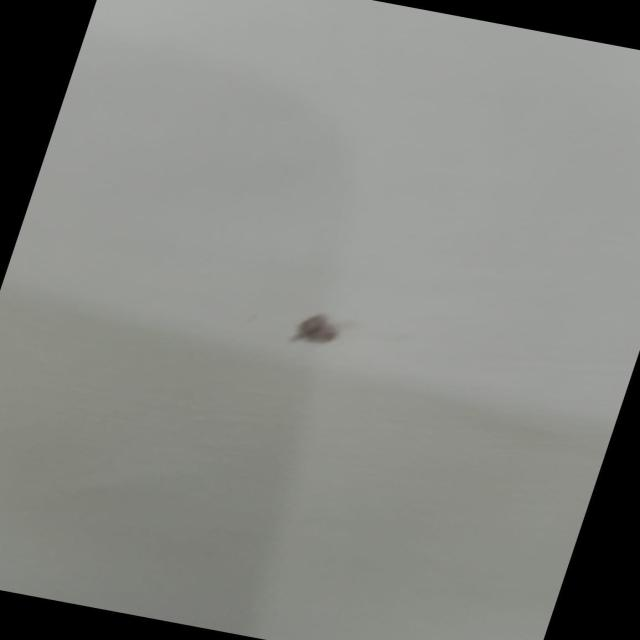stain: (264, 294, 375, 369)
